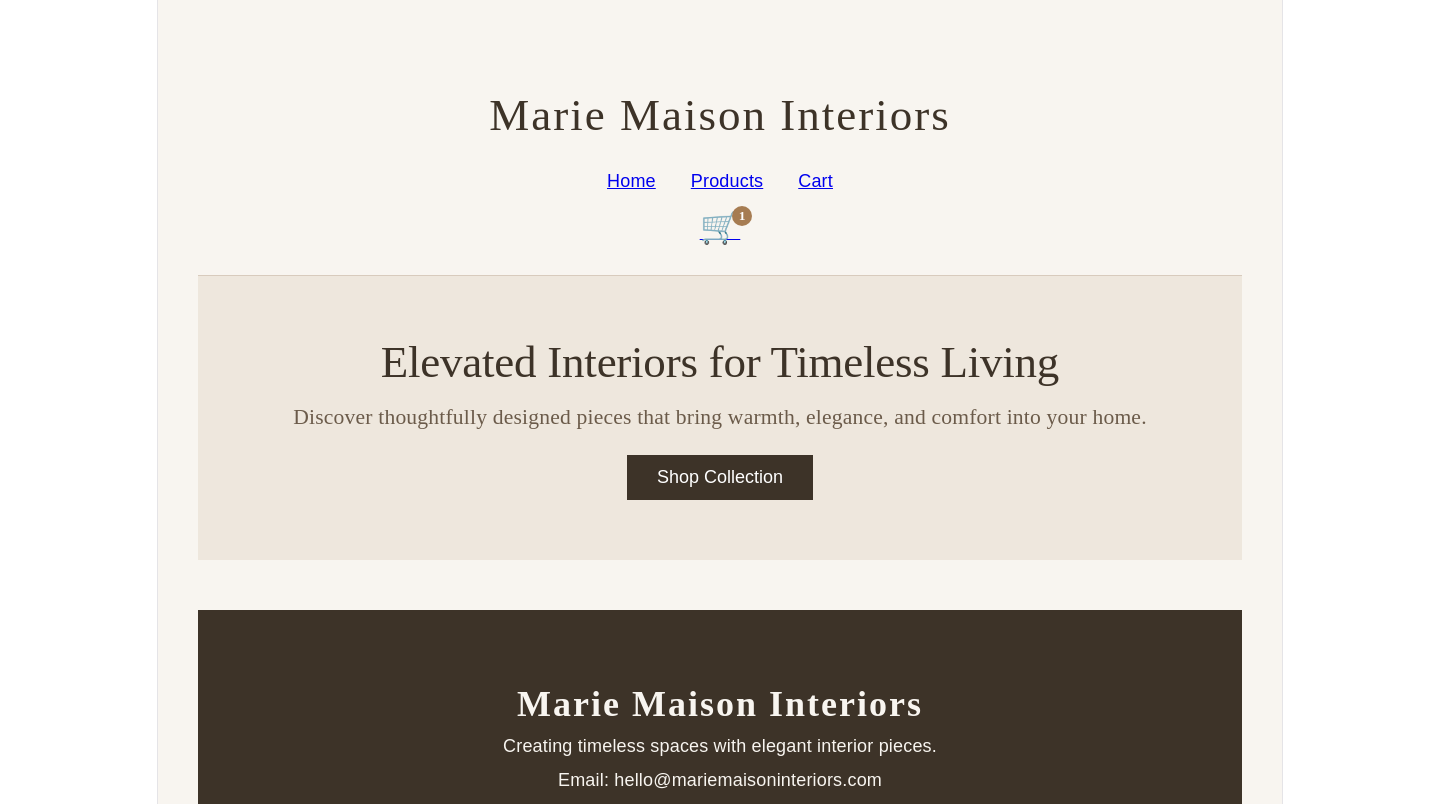
Scenario: App cart state management › loads saved cart data from localStorage on startup
Click the link "Cart". click: (816, 181)
box: [798,171,833,191]
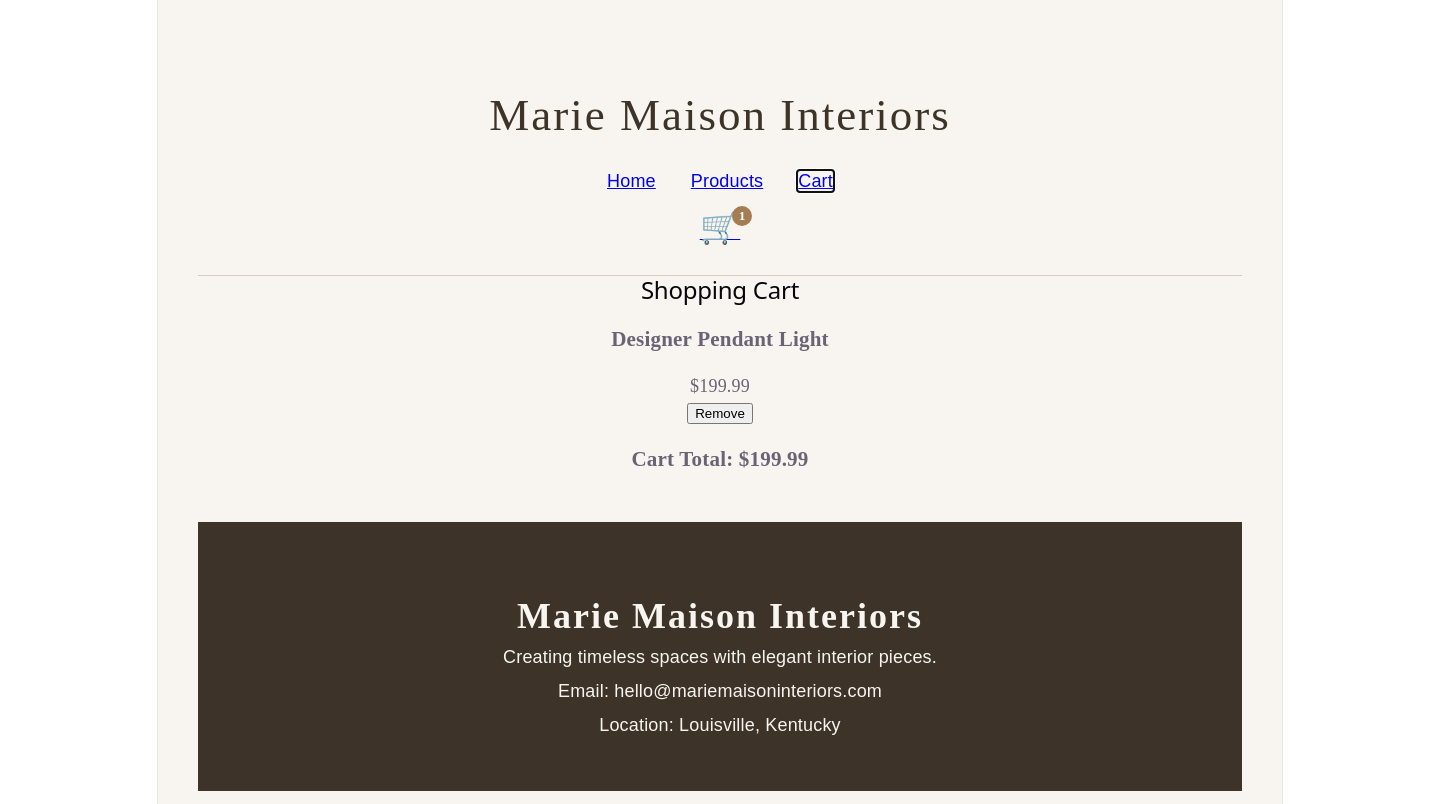
Expected: the heading "Designer Pendant Light" is shown, [611,327,829,351]
Expected: the text "$199.99" is shown, [690,376,750,396]
